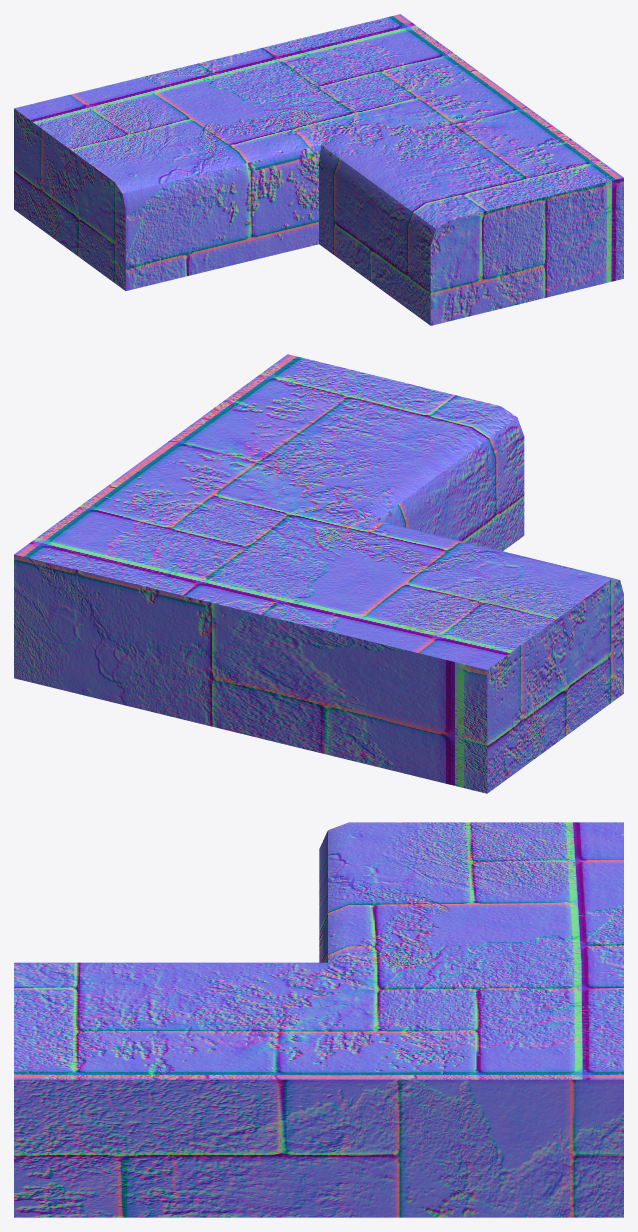
Rendered from floor_corner_2.fbx.
The picture shows the model from 3 angles, top to bottom: view 1: azimuth 30°, elevation 25°; view 2: azimuth 150°, elevation 25°; view 3: azimuth 270°, elevation 25°; orthographic projection. The views are drawn at different scales.
Parts seen in each view (by area): view 1: pPlane26; view 2: pPlane26; view 3: pPlane26.
Part boxes in pixels (x1,y1,x2,y2): pPlane26: (14,14,623,325); pPlane26: (14,354,623,793); pPlane26: (14,822,623,1217).
Size of the model in its own units: 200 by 50 by 200.
1 material, 1 textured.
